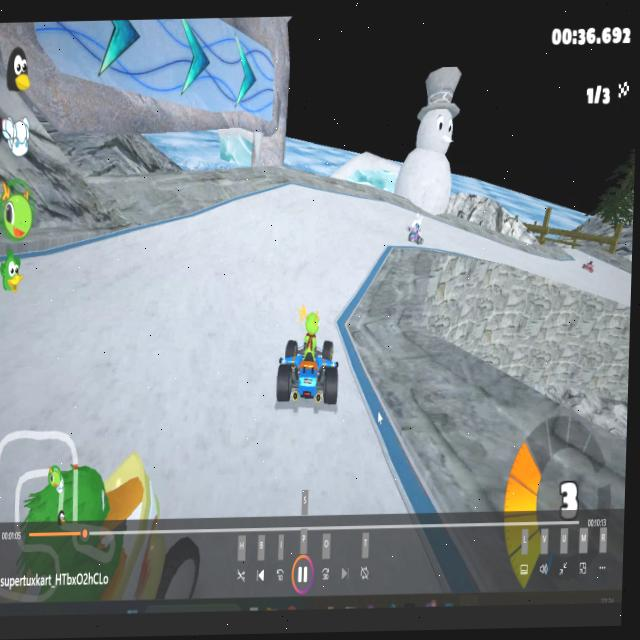enemy_kart: (579, 257, 596, 273)
player_kart: (274, 309, 342, 425), (407, 218, 428, 244)
track: (0, 257, 277, 537), (135, 229, 366, 280), (271, 418, 353, 519), (242, 196, 360, 234), (350, 436, 389, 521), (278, 278, 353, 308), (359, 201, 406, 245), (577, 271, 630, 301), (339, 367, 363, 418), (435, 223, 466, 250), (467, 243, 506, 263), (191, 216, 241, 230), (508, 250, 537, 269), (466, 228, 491, 248), (563, 258, 577, 284), (541, 261, 561, 279), (563, 242, 580, 257), (535, 256, 546, 272), (600, 260, 612, 273)
